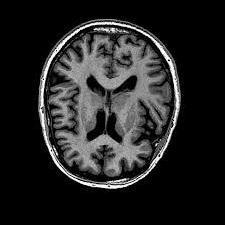Normal_Brain: (3, 2, 225, 225), (205, 31, 225, 95)
